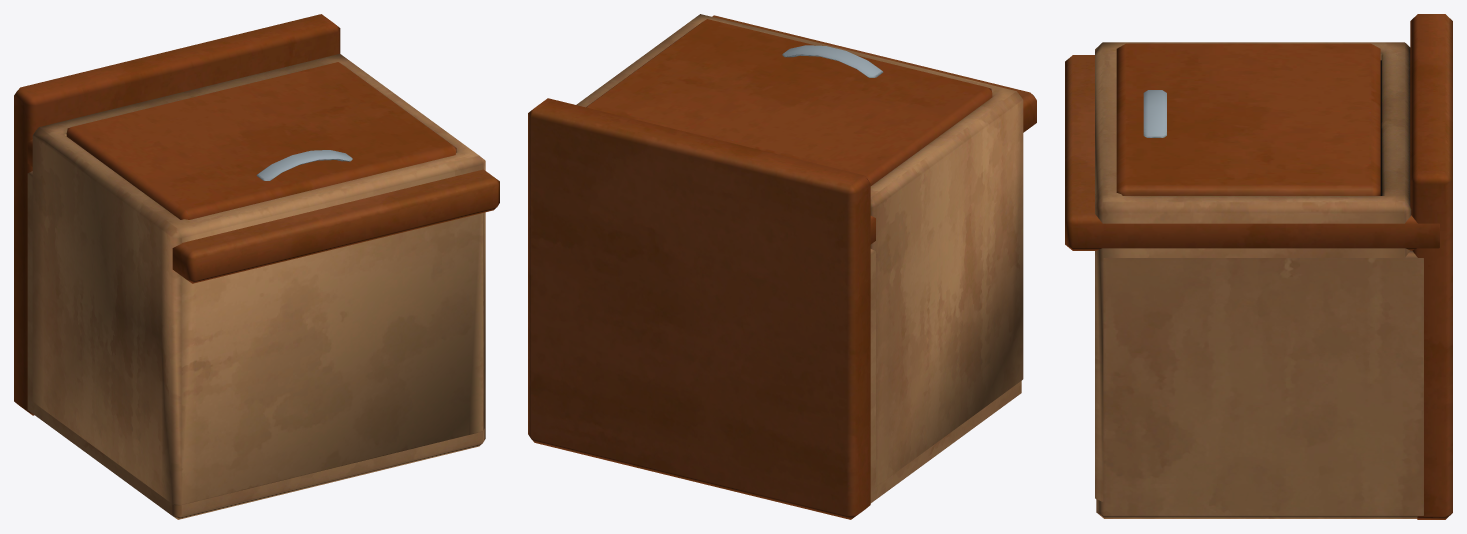
Rendered from ContainerCounter_Visual.glb.
3 views of the same model, side by side, from view 1: azimuth 30°, elevation 25°; view 2: azimuth 150°, elevation 25°; view 3: azimuth 270°, elevation 25° (orthographic). The views are drawn at different scales.
Parts seen in each view (by area): view 1: Counter_hole, Single door, Counter_solid; view 2: Counter_hole, Single door, Counter_solid; view 3: Counter_solid, Single door, Counter_hole.
Boxes of the visible parts, x1,y1,x2,y2 form: Counter_hole: (14, 14, 485, 505); Single door: (66, 62, 456, 219); Counter_solid: (27, 139, 499, 519); Counter_hole: (528, 14, 1023, 519); Single door: (586, 19, 992, 185); Counter_solid: (712, 15, 1036, 503); Counter_solid: (1065, 55, 1439, 518); Single door: (1116, 43, 1380, 195); Counter_hole: (1095, 14, 1452, 519).
Bounding box in the file's own units: 1.49 × 1.44 × 1.46.
4 materials, 3 textured.
